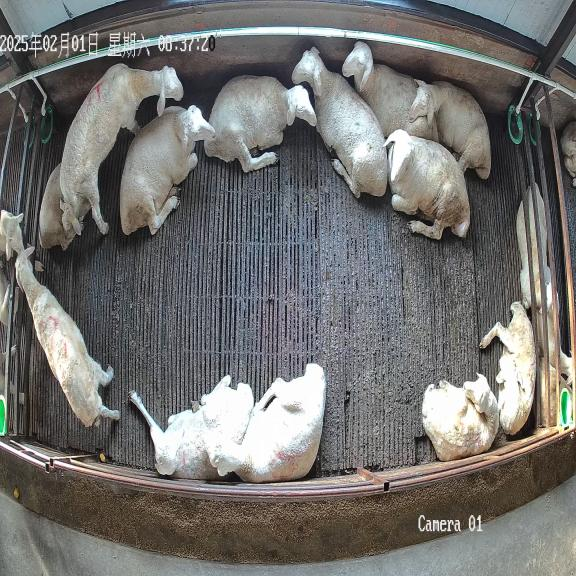lying: (292, 47, 387, 197), (216, 363, 326, 483), (130, 375, 254, 480), (120, 106, 215, 234), (204, 75, 317, 172), (342, 41, 439, 141), (385, 129, 470, 239), (409, 80, 491, 179), (480, 302, 536, 433), (422, 374, 499, 460), (39, 164, 75, 250)
stand: (59, 64, 183, 238), (15, 250, 120, 426)
